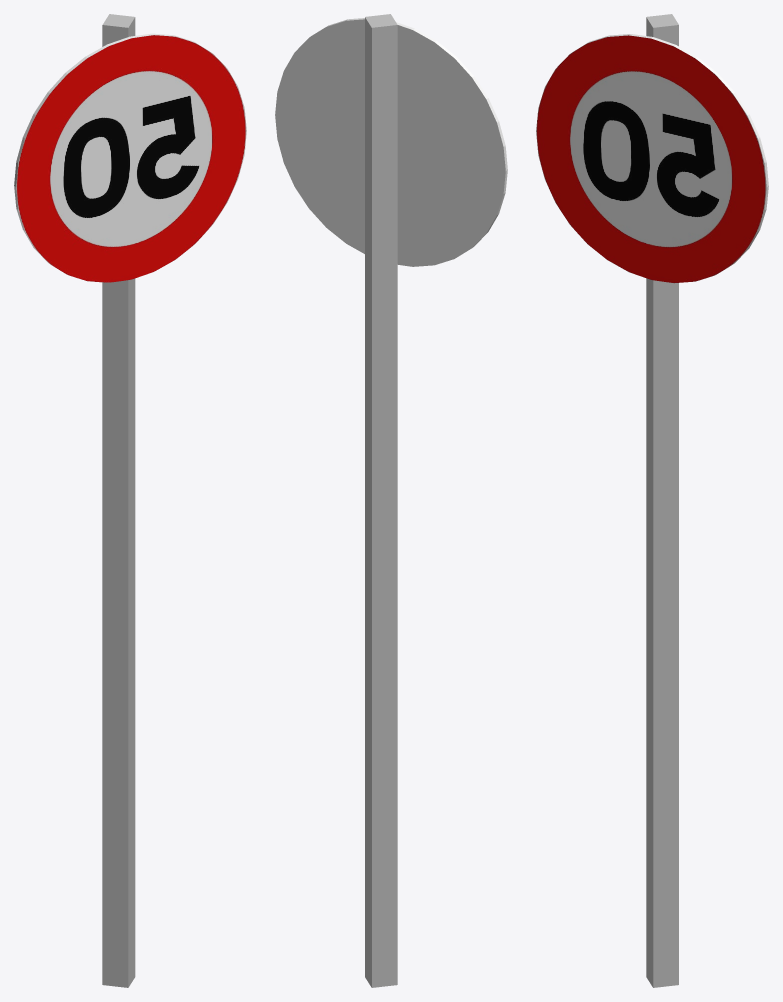
Rendered from 50Limit.obj.
The picture shows the model from 3 angles, left to right: view 1: azimuth 30°, elevation 25°; view 2: azimuth 150°, elevation 25°; view 3: azimuth 330°, elevation 25°; orthographic projection.
Parts seen in each view (by area): view 1: Sign_PedestrianLane, Sign_Yield; view 2: Sign_PedestrianLane, Sign_Yield; view 3: Sign_PedestrianLane, Sign_Yield.
Boxes of the visible parts, x1,y1,x2,y2 form: Sign_PedestrianLane: [14, 33, 246, 282]; Sign_Yield: [102, 14, 135, 987]; Sign_PedestrianLane: [275, 18, 507, 266]; Sign_Yield: [365, 14, 397, 987]; Sign_PedestrianLane: [536, 34, 768, 283]; Sign_Yield: [646, 14, 678, 987].
Size of the model in its own units: 1.12 by 4.44 by 0.1795.
Materials: 2 (1 with a texture image).
